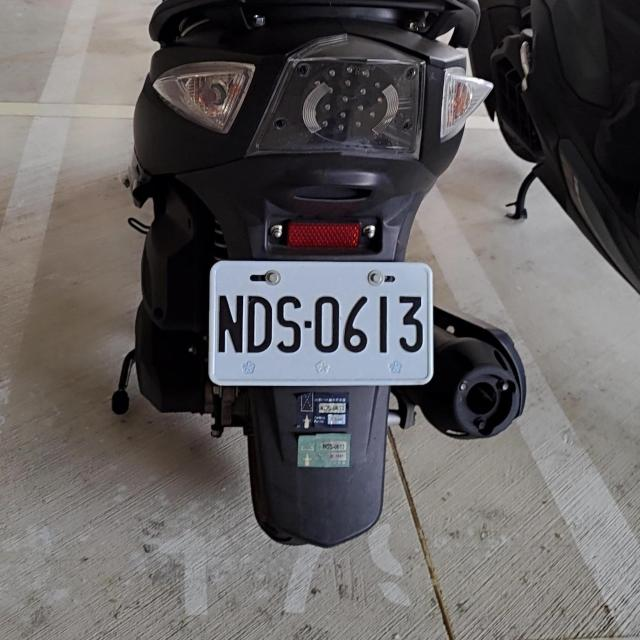W: (208, 256, 434, 388)
